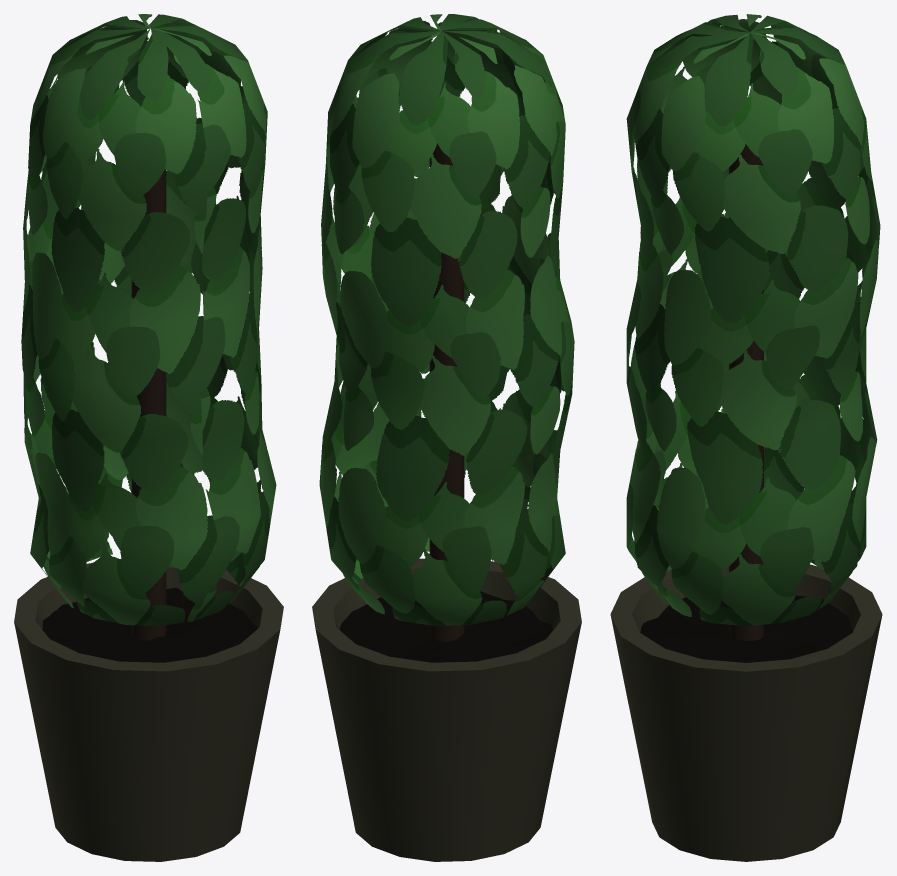
File: ruukkukasvi.obj
The picture shows the model from 3 angles, left to right: view 1: azimuth 30°, elevation 25°; view 2: azimuth 150°, elevation 25°; view 3: azimuth 270°, elevation 25°; orthographic projection.
Parts seen in each view (by area): view 1: Cylinder.002; view 2: Cylinder.002; view 3: Cylinder.002.
Boxes of the visible parts, <box> form: Cylinder.002: <box>14,14,283,861</box>; Cylinder.002: <box>312,14,581,861</box>; Cylinder.002: <box>610,14,882,861</box>.
Size of the model in its own units: 2.27 by 7.29 by 2.27.
